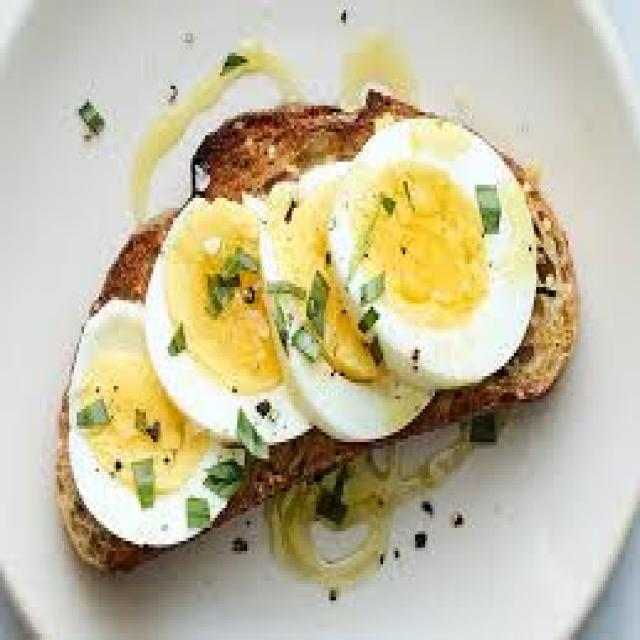boiled egg: (329, 116, 536, 392), (245, 162, 434, 442), (67, 301, 244, 550), (146, 198, 311, 445)
